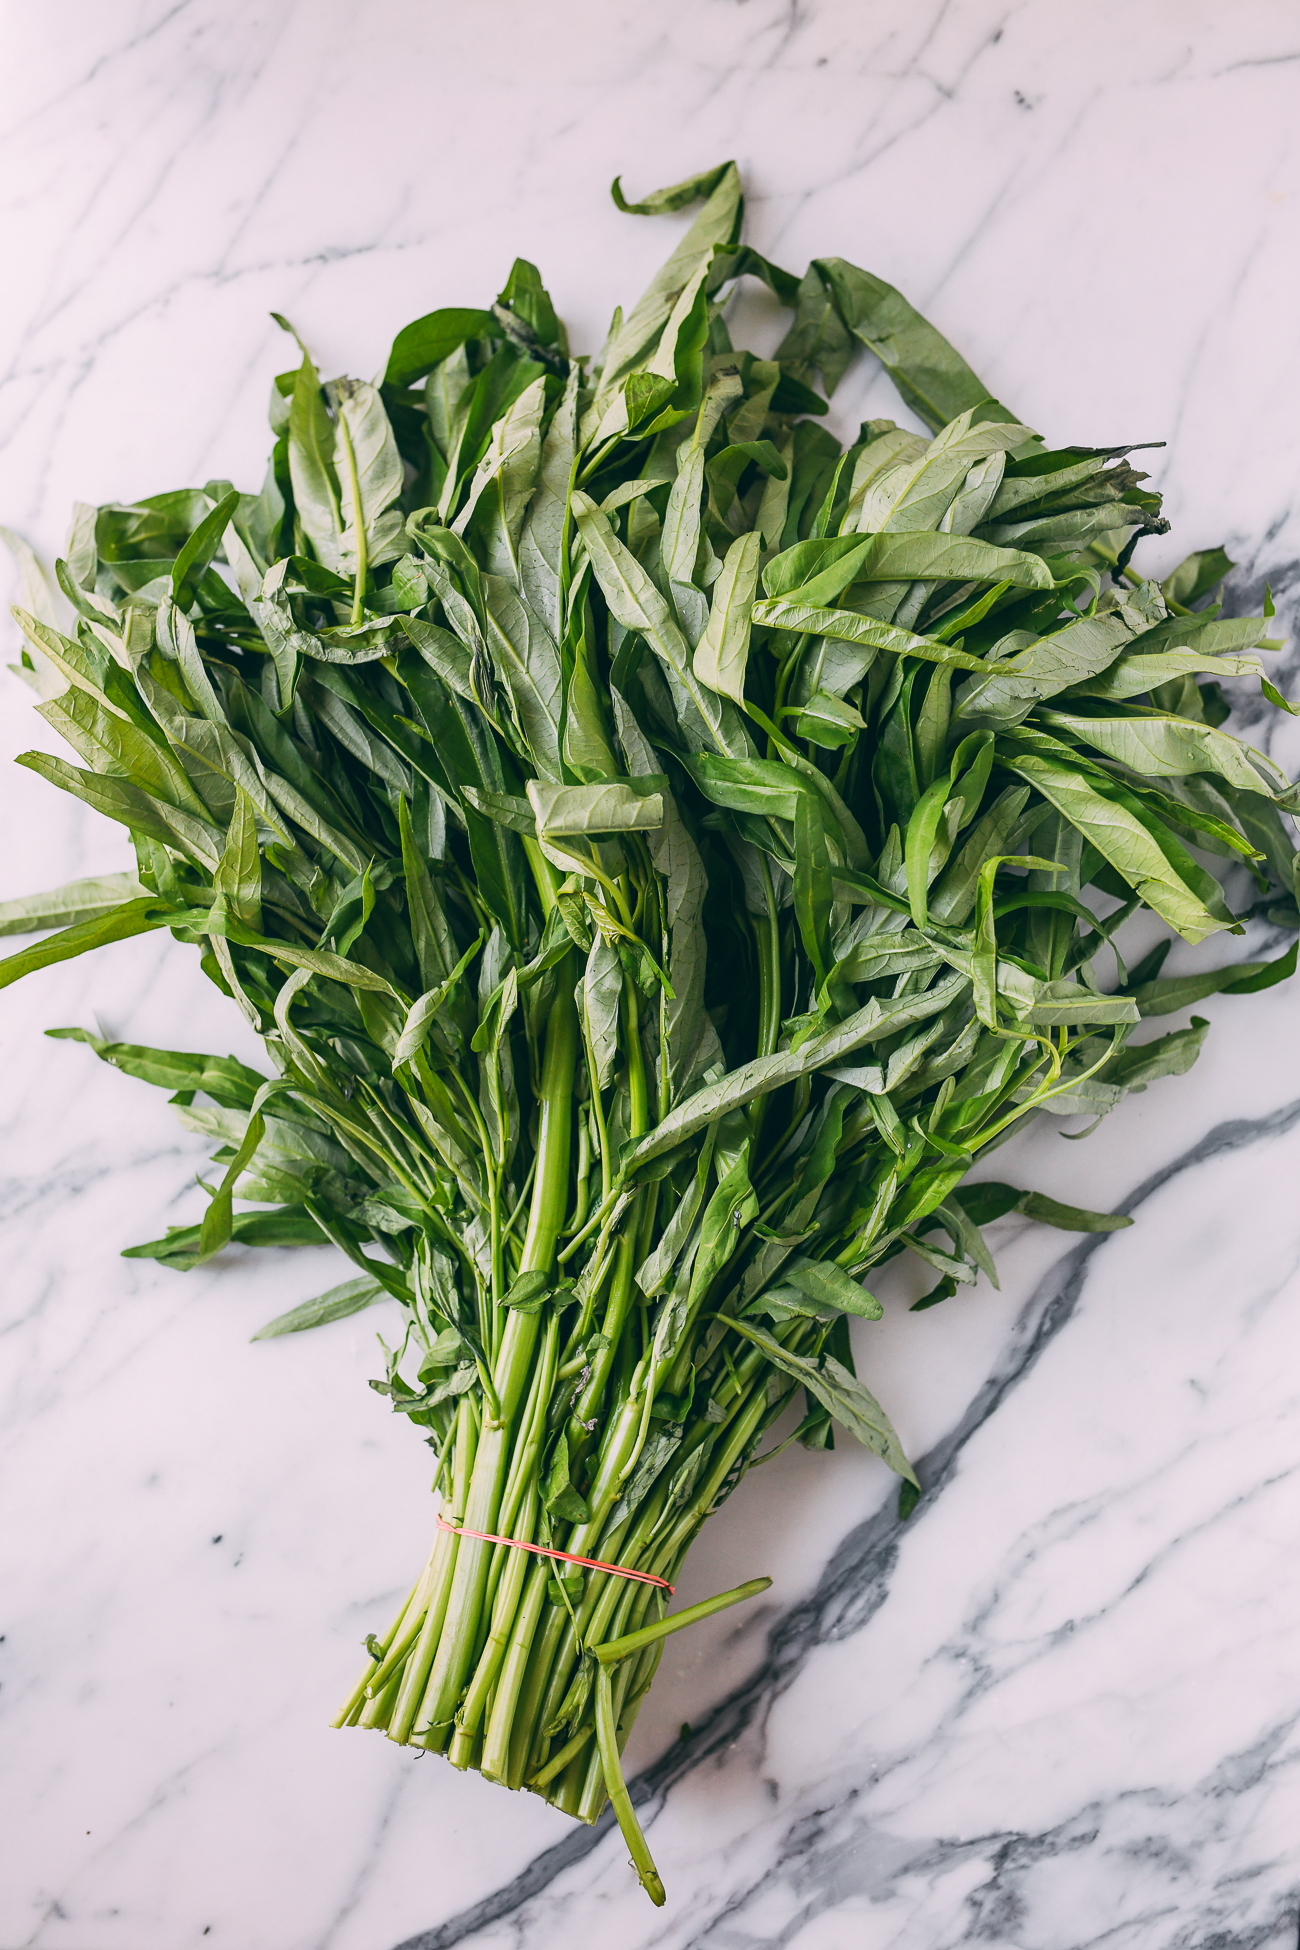Kangkung: (67, 173, 1191, 1625)
